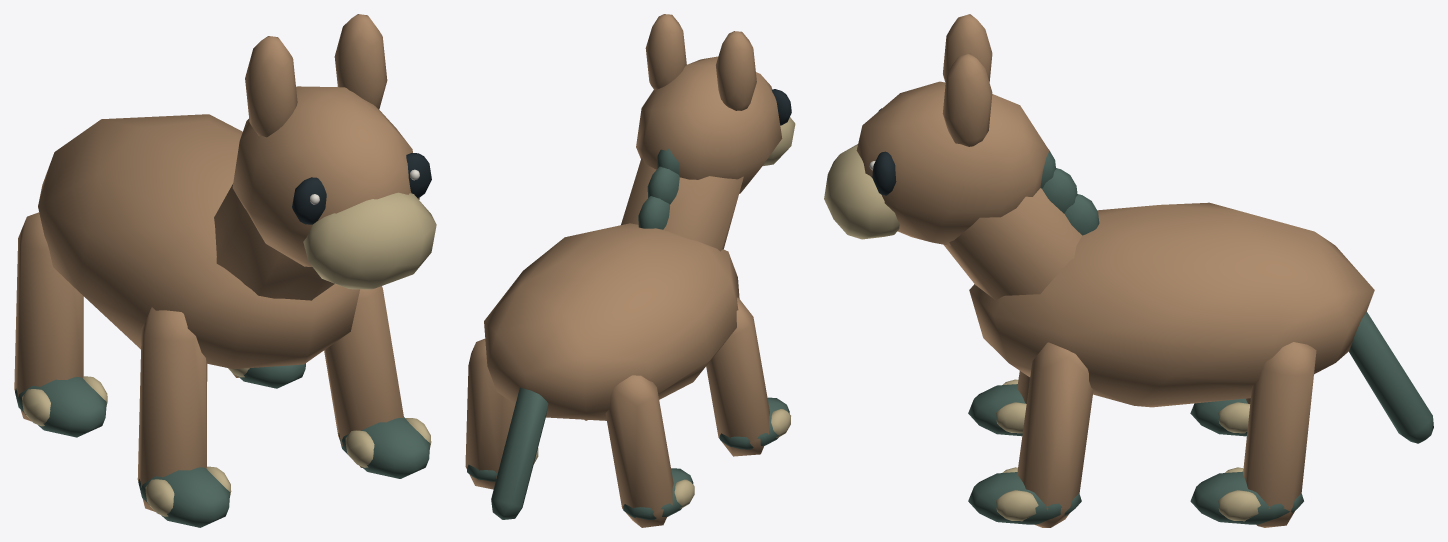
The model's file is org_mesohippus.glb.
The picture shows the model from 3 angles, left to right: view 1: azimuth 30°, elevation 25°; view 2: azimuth 150°, elevation 25°; view 3: azimuth 270°, elevation 25°; orthographic projection. The views are drawn at different scales.
Visible parts, largest first — view 1: Body, Head, Leg_FR, Leg_BR, Leg_FL, Eye_R, Leg_BL, Eye_L; view 2: Body, Head, Leg_BR, Leg_FR, Leg_BL, Tail, Eye_R; view 3: Body, Head, Leg_FL, Leg_BL, Tail, Leg_FR, Leg_BR, Eye_L.
Part boxes in pixels (bbox=[...]): Body: bbox=[38, 114, 359, 369]; Head: bbox=[214, 14, 436, 300]; Leg_FR: bbox=[137, 307, 231, 527]; Leg_BR: bbox=[14, 212, 107, 437]; Leg_FL: bbox=[324, 286, 431, 478]; Eye_R: bbox=[292, 177, 326, 224]; Leg_BL: bbox=[228, 363, 305, 388]; Eye_L: bbox=[406, 153, 431, 198]; Body: bbox=[484, 223, 739, 420]; Head: bbox=[621, 14, 795, 251]; Leg_BR: bbox=[605, 375, 694, 527]; Leg_FR: bbox=[706, 297, 790, 456]; Leg_BL: bbox=[465, 338, 538, 489]; Tail: bbox=[491, 387, 548, 519]; Eye_R: bbox=[772, 89, 791, 125]; Body: bbox=[969, 202, 1374, 407]; Head: bbox=[824, 14, 1099, 300]; Leg_FL: bbox=[968, 342, 1093, 527]; Leg_BL: bbox=[1190, 342, 1316, 527]; Tail: bbox=[1349, 311, 1433, 443]; Leg_FR: bbox=[968, 371, 1030, 436]; Leg_BR: bbox=[1190, 398, 1250, 436]; Eye_L: bbox=[869, 151, 896, 195].
Size of the model in its own units: 0.4921 by 0.85 by 1.05.
